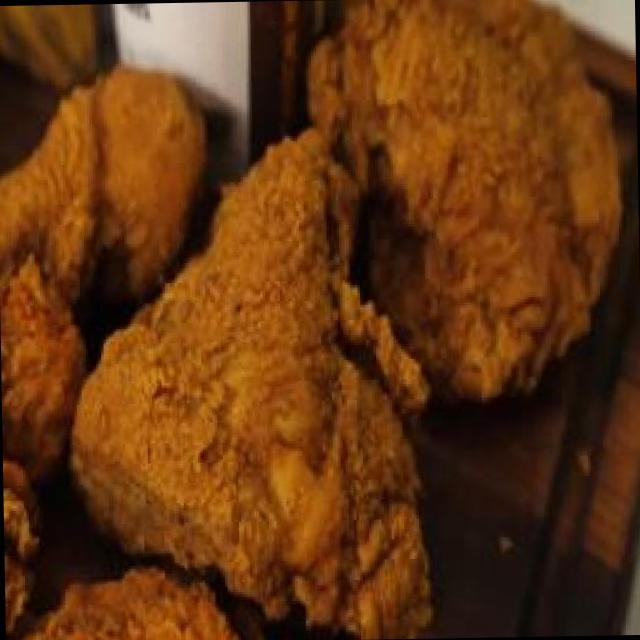fried chicken: (1, 0, 617, 617)
